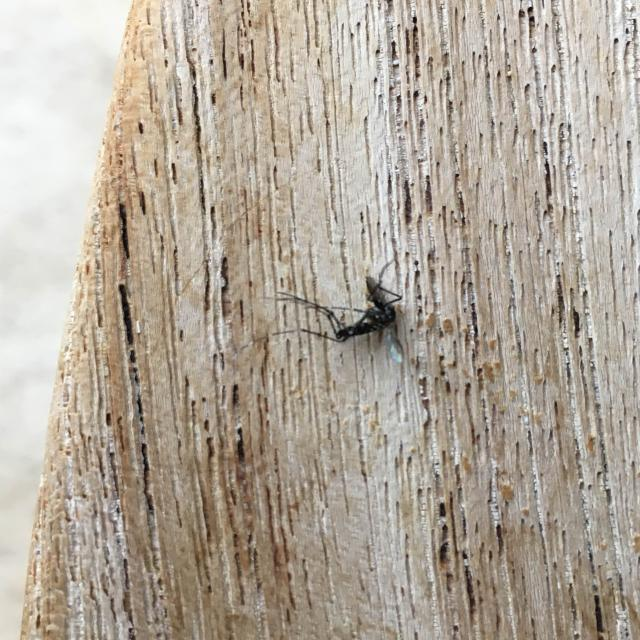albopictus: (262, 266, 417, 356)
